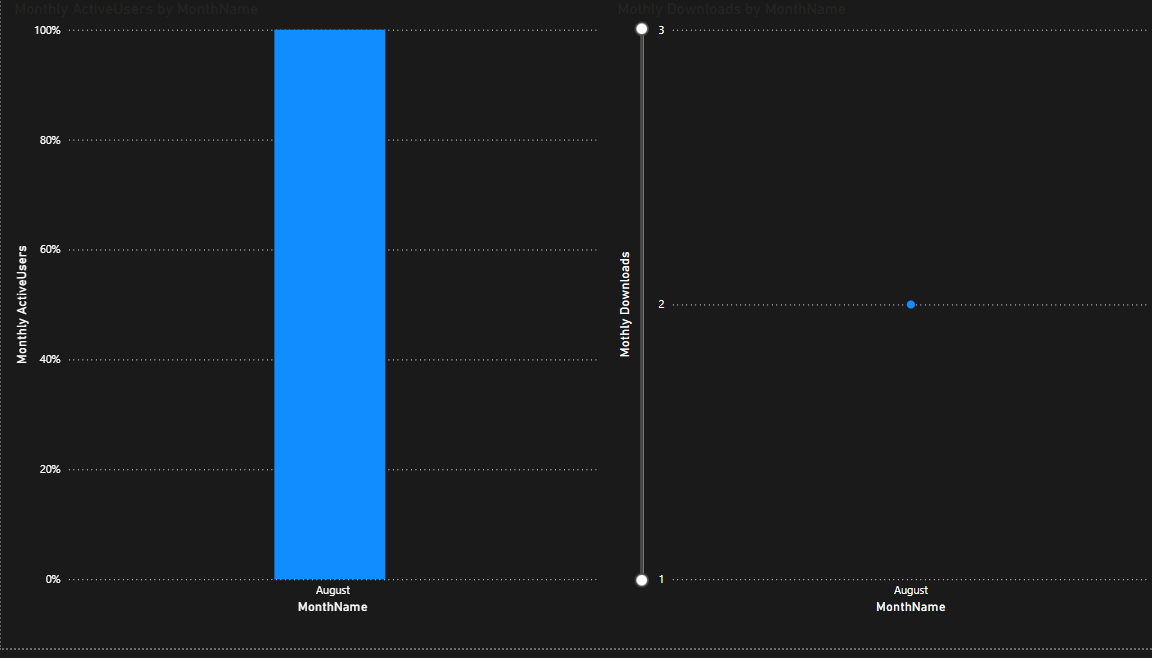

What the dashboard file says about the page in this screenshot:
{"tool":"powerbi","page":{"name":"Page 6","canvas":[1280,720],"ordinal":5},"visuals":[{"type":"hundredPercentStackedColumnChart","fields":{"Y":["monthly_stats.Monthly ActiveUsers"],"Category":["MonthMapping.MonthName"]},"box":[10,0,656.7,686.7],"z":0},{"type":"lineChart","fields":{"Category":["MonthMapping.MonthName"],"Y":["monthly_stats.Mothly Downloads"]},"box":[680,0,600,686.7],"z":1000}]}

Visuals, with their boxes in screenshot pixels (x1, y1, x2, y2), scaled from the page's 1280x720 canvas onto the 1152x658 screenshot:
hundredPercentStackedColumnChart - monthly_stats.Monthly ActiveUsers x MonthMapping.MonthName: box(9, 0, 600, 628)
lineChart - MonthMapping.MonthName x monthly_stats.Mothly Downloads: box(612, 0, 1151, 628)
